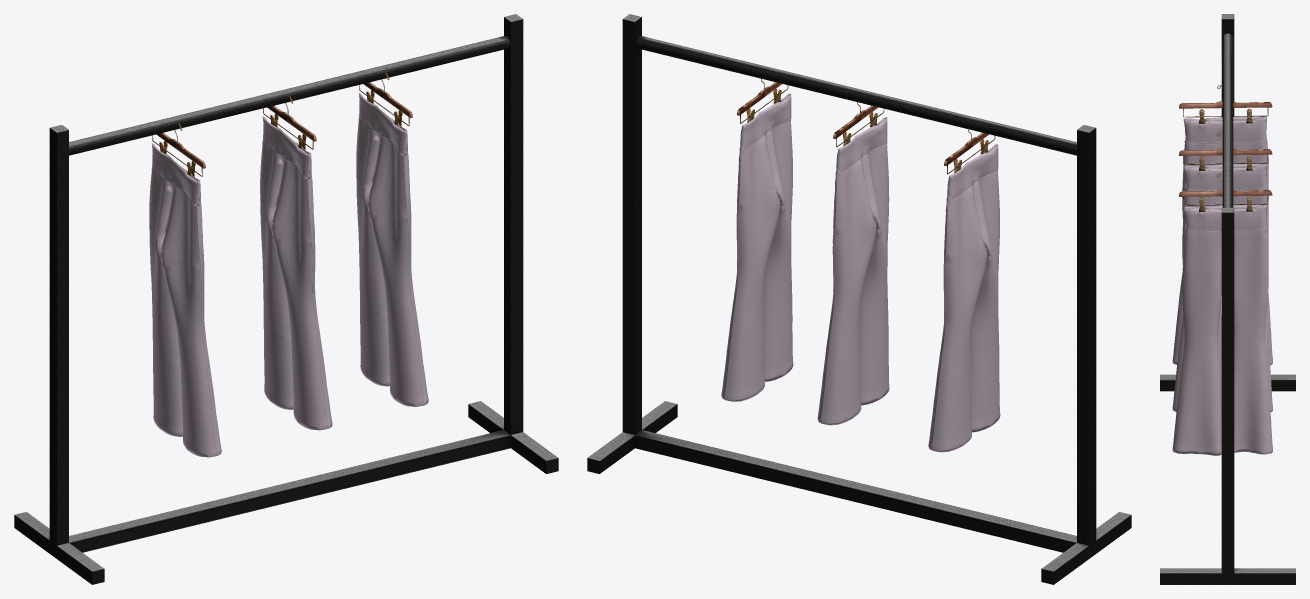
The model's file is Rack_Hanger5_1.7x1.5x0.5.glb.
3 renders of one model, left to right at view 1: azimuth 30°, elevation 25°; view 2: azimuth 150°, elevation 25°; view 3: azimuth 270°, elevation 25°, orthographic. The views are drawn at different scales.
Parts seen in each view (by area): view 1: Hanger_Baked.005; view 2: Hanger_Baked.005; view 3: Hanger_Baked.005.
Boxes of the visible parts, x1=… form: Hanger_Baked.005: x1=14, y1=14, x2=558, y2=584; Hanger_Baked.005: x1=587, y1=14, x2=1131, y2=584; Hanger_Baked.005: x1=1160, y1=14, x2=1295, y2=584.
Size of the model in its own units: 1.67 by 1.45 by 0.4817.
Materials: 1 (1 with a texture image).
